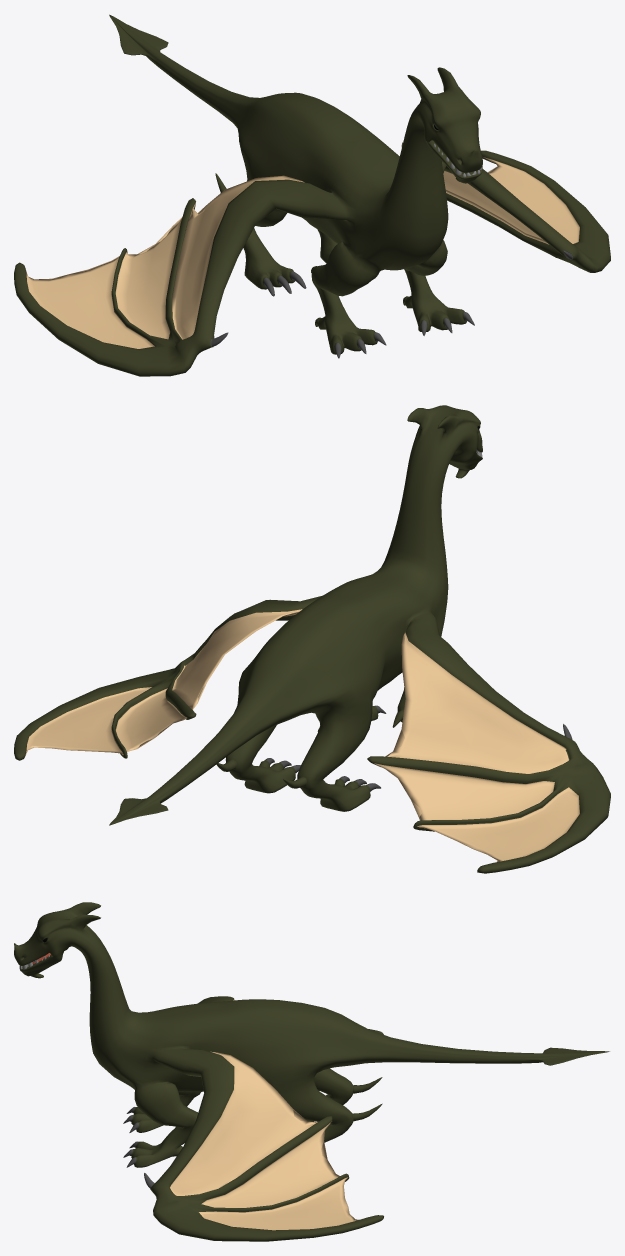
File: Dragon01_mesh.fbx
The picture shows the model from 3 angles, top to bottom: view 1: azimuth 30°, elevation 25°; view 2: azimuth 150°, elevation 25°; view 3: azimuth 270°, elevation 25°; orthographic projection. The views are drawn at different scales.
Parts seen in each view (by area): view 1: Dragon; view 2: Dragon; view 3: Dragon.
Boxes of the visible parts, bbox=[...] form: Dragon: bbox=[14, 14, 610, 376]; Dragon: bbox=[14, 405, 610, 873]; Dragon: bbox=[14, 902, 609, 1241].
Size of the model in its own units: 1424 by 758 by 1717.
